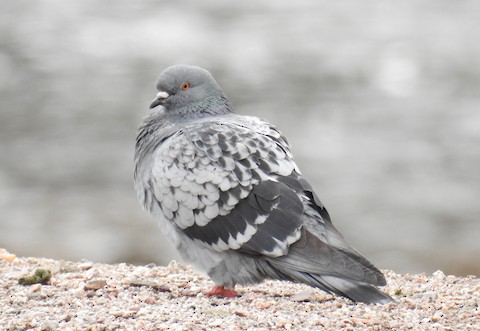pigeon: (128, 60, 404, 311)
